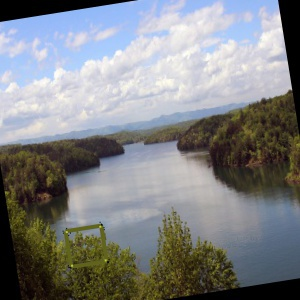square: (61, 222, 112, 269)
